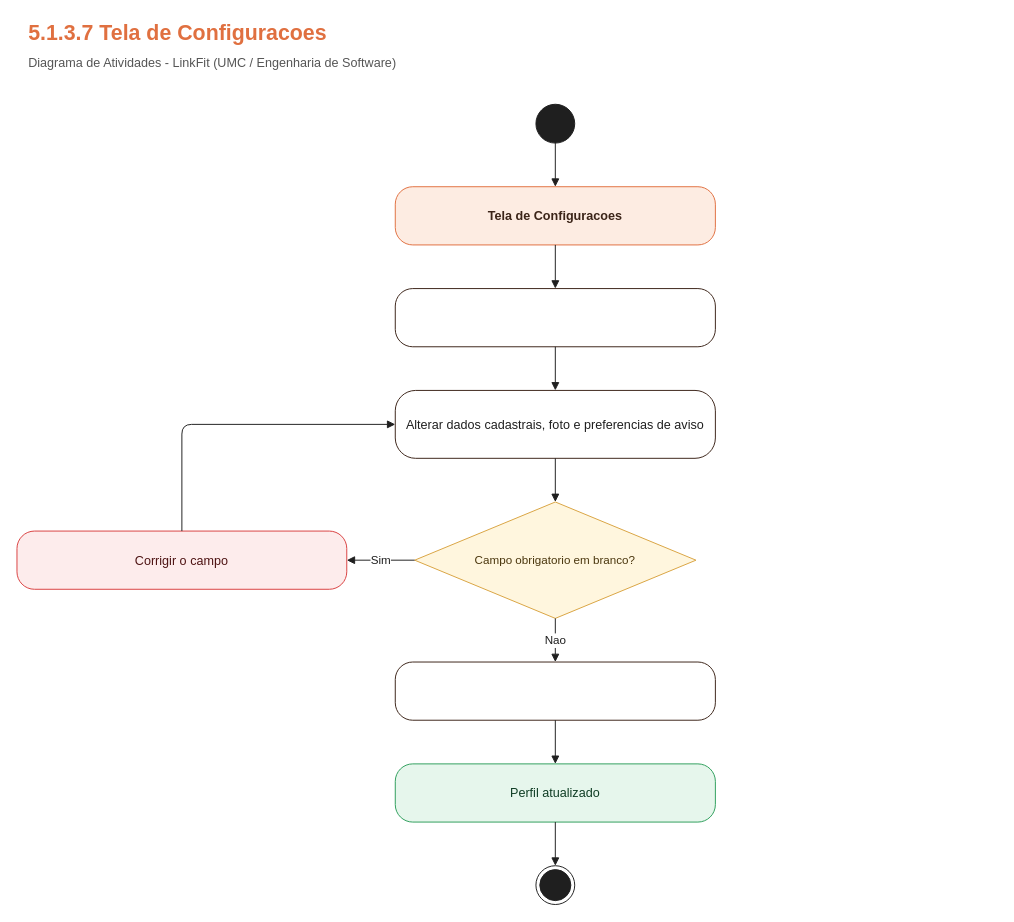
Some shapes in this 1014 by 922 pixel diagram are drawn without their labels. The centre of each missing label's shape, as x and y in pixels:
"Acionar 'Editar perfil'" goes at (x=554, y=317).
"Salvar as alteracoes" goes at (x=554, y=690).
